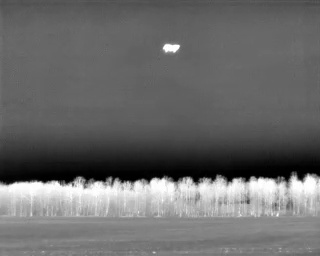DRONE: (158, 38, 183, 59)
